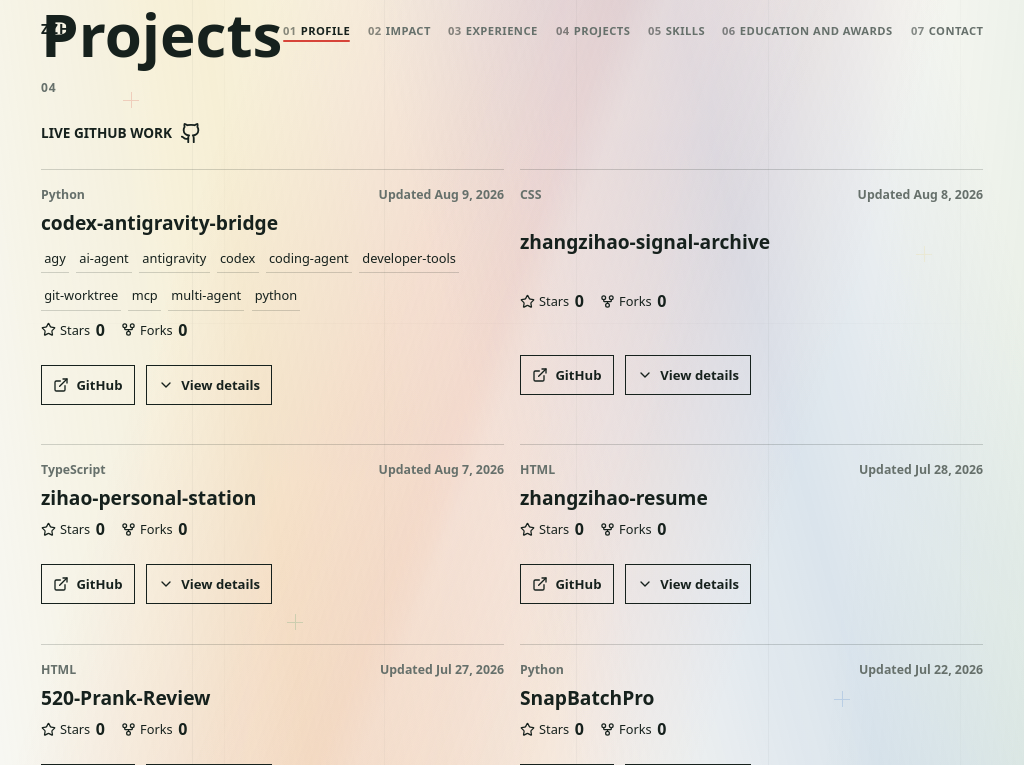
complete resume sections › expands project details through a keyboard-accessible control without rendering the excluded repository
(page scrolled)
Click the button "View details" below "git-worktree" at [209, 384], box [146,364,272,404]
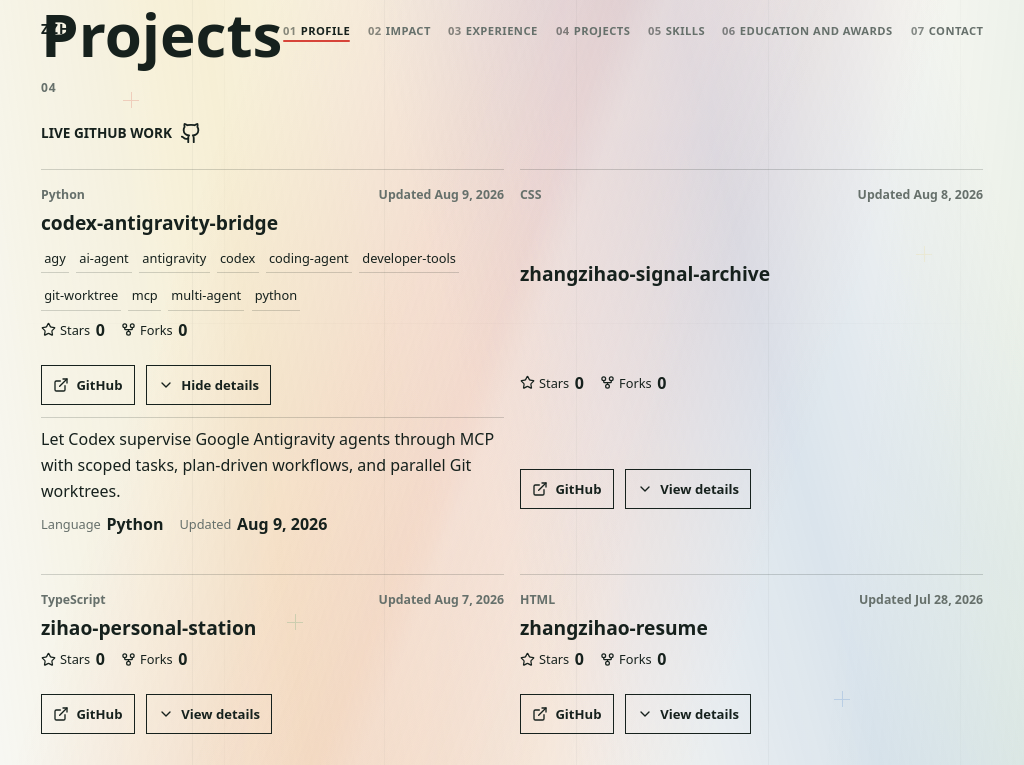
Now the text "Let Codex supervise Google Antigravity agents through MCP with scoped tasks, plan-driven workflows, and parallel Git wor" is shown, box [41,427,494,502]
